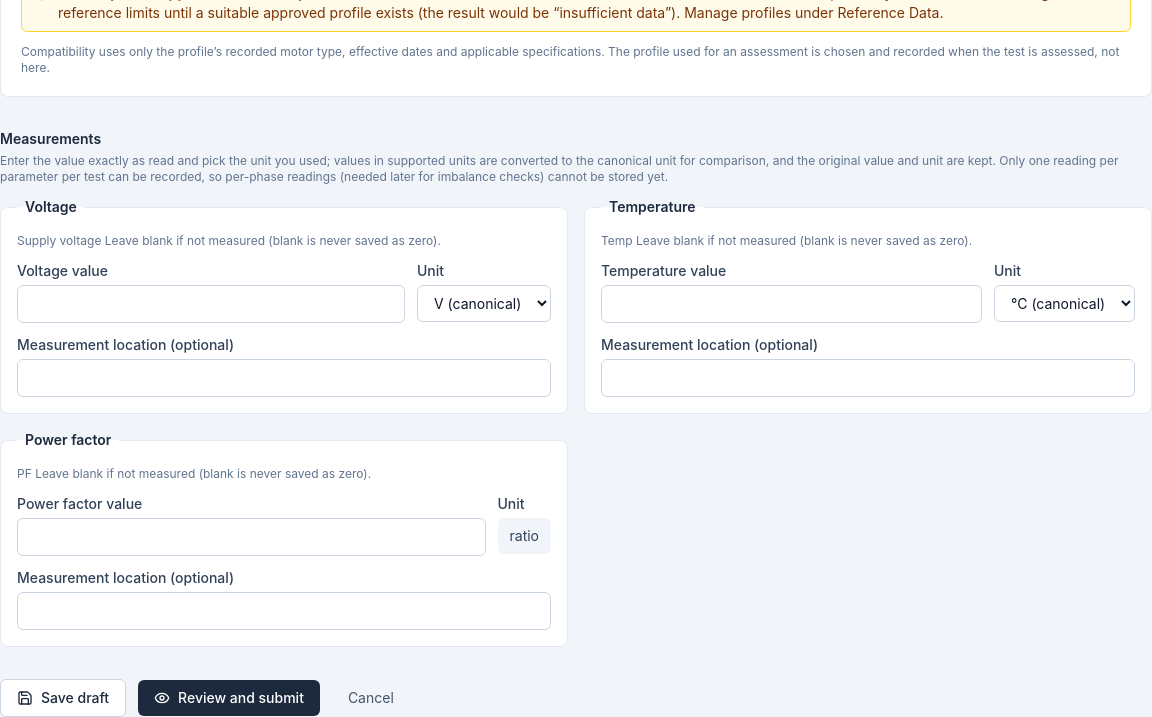
it: TestEditor — review and submit › cannot review a test with no readings
This screenshot has width=1152, height=717.
(page scrolled)
Step 1. Click the button "Review and submit" → (229, 698), box [138,680,320,716]
(page scrolled)
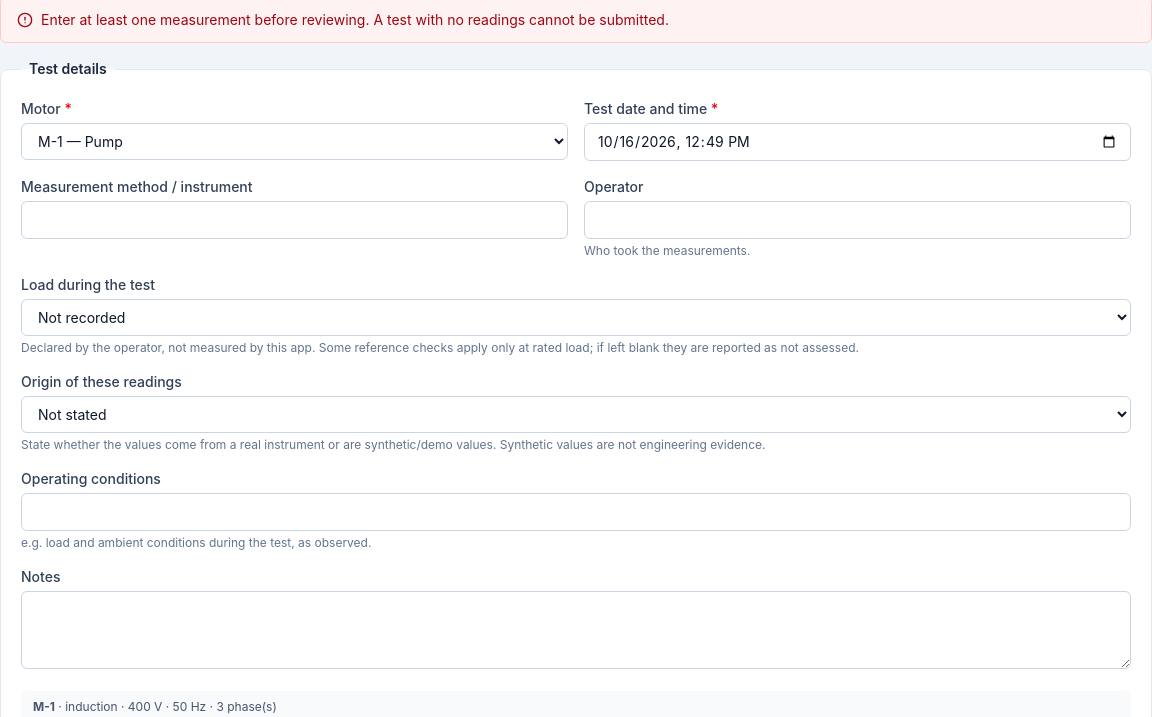
Expected: the message shows "at least one measurement", [41,11,669,28]
